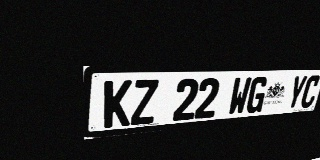2: (173, 78, 200, 121), (194, 78, 221, 119)
C: (299, 75, 320, 108)
G: (245, 76, 269, 114)
K: (103, 80, 132, 128)
W: (227, 77, 252, 116)
Y: (285, 75, 308, 110)
Z: (130, 79, 159, 125)
